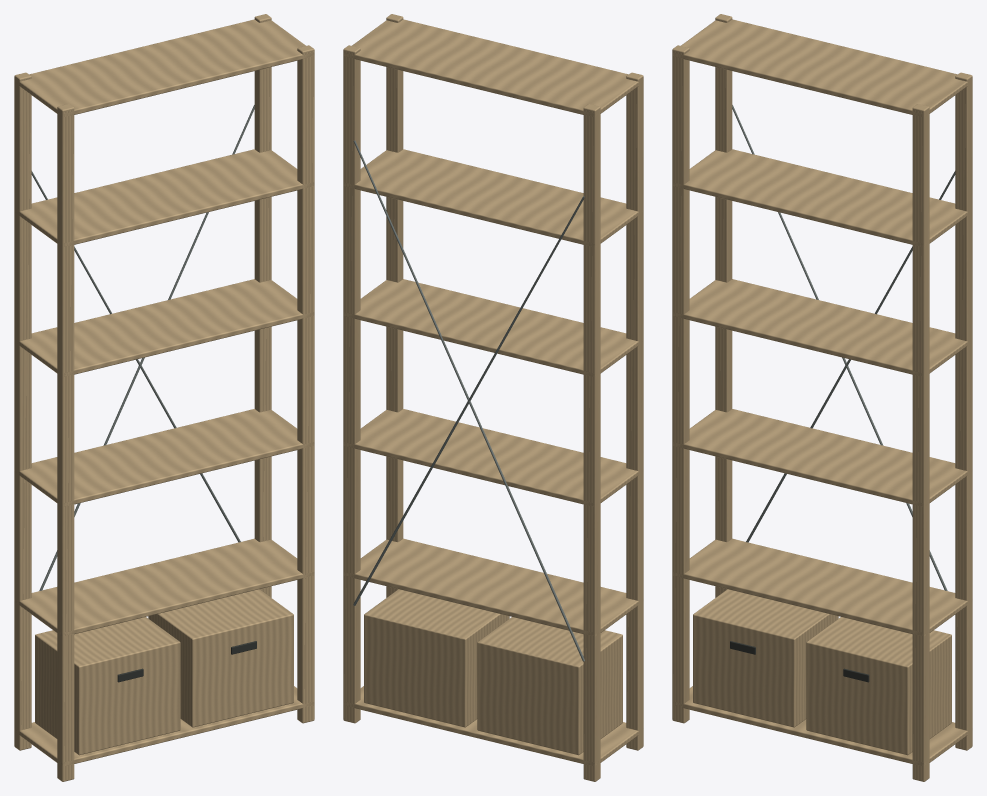
File: ivar-tall.glb
The picture shows the model from 3 angles, left to right: view 1: azimuth 30°, elevation 25°; view 2: azimuth 150°, elevation 25°; view 3: azimuth 330°, elevation 25°; orthographic projection.
Visible parts, largest first — view 1: IVAR Tall shelving with 2 storage boxes; view 2: IVAR Tall shelving with 2 storage boxes; view 3: IVAR Tall shelving with 2 storage boxes.
Part boxes in pixels (x1,y1,x2,y2): IVAR Tall shelving with 2 storage boxes: (14, 14, 314, 781); IVAR Tall shelving with 2 storage boxes: (343, 14, 643, 781); IVAR Tall shelving with 2 storage boxes: (672, 14, 972, 781).
Size of the model in its own units: 0.89 by 2.26 by 0.3.
Materials: 3 (2 with a texture image).
